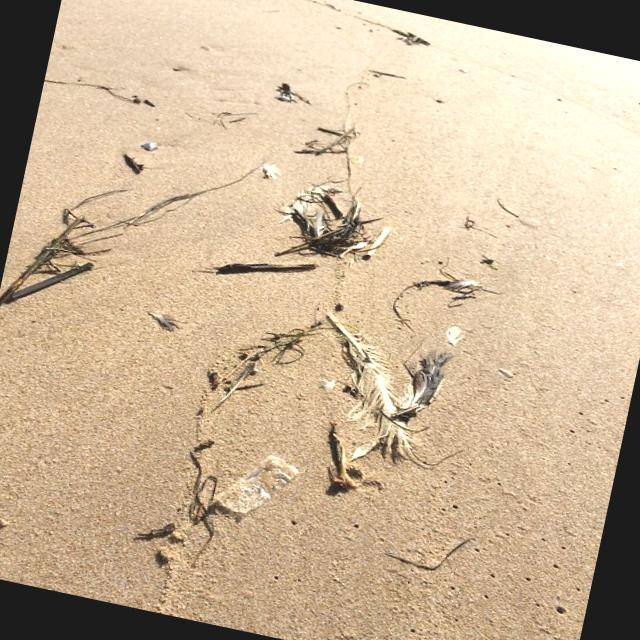Trash: (208, 442, 303, 532)
